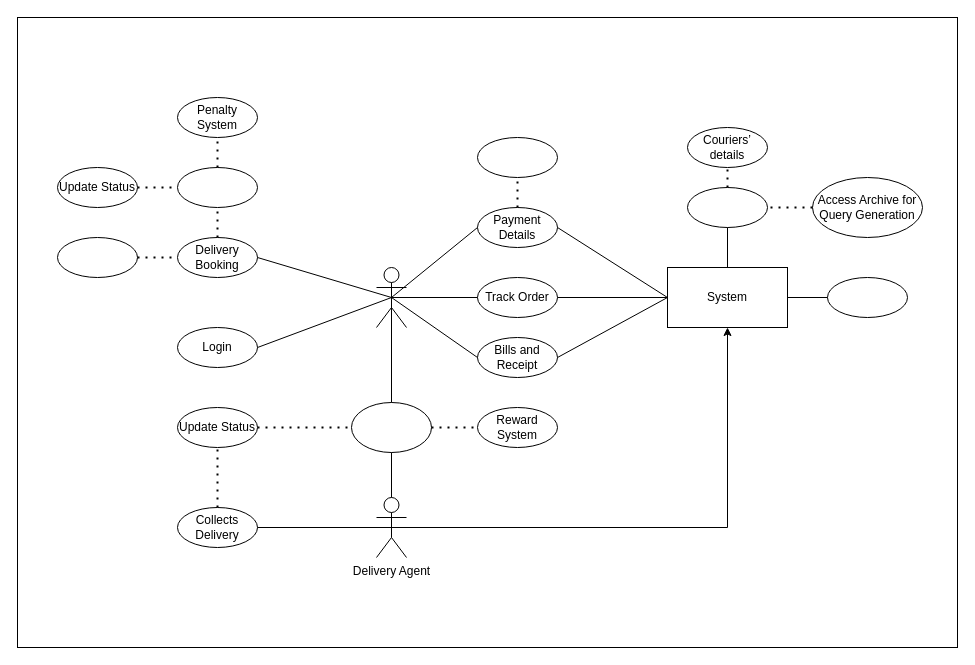
The diagram is 975 pixels wide and 665 high, and some of its shapes have lost their labels. Here are the shapes that lost their labels. From the top down, the box of each, then its label:
(476, 136, 558, 178): Shipping Details
(176, 166, 258, 208): Delivery Cancellation
(686, 186, 768, 228): Store Details
(56, 236, 138, 278): Edit or Reschedule
(376, 266, 406, 328): Customer
(826, 276, 908, 318): Store Archive
(350, 402, 432, 452): Delivery Completion
